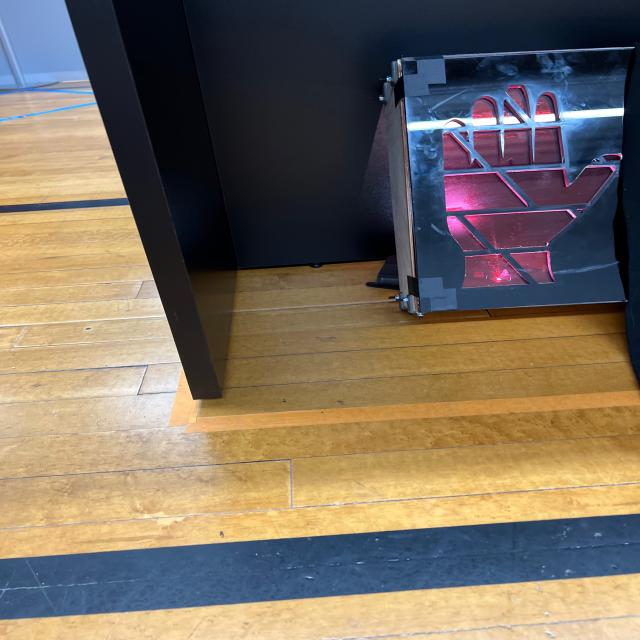stop: (403, 64, 636, 304)
